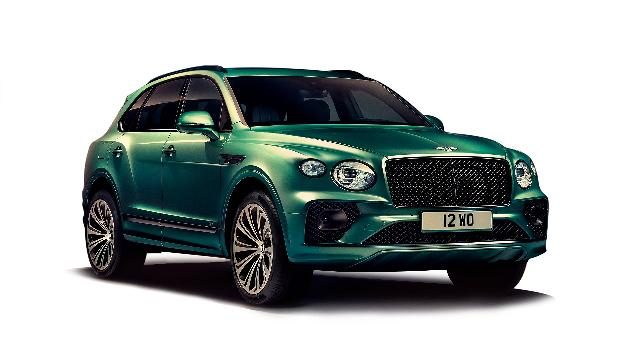bentley: (81, 65, 548, 308)
